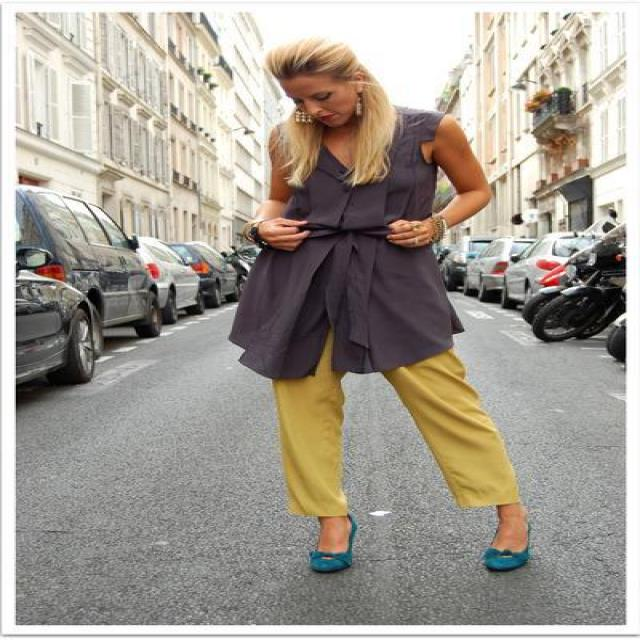pants: (272, 346, 518, 515)
shirt: (238, 115, 462, 382)
shoe: (308, 550, 530, 577)
